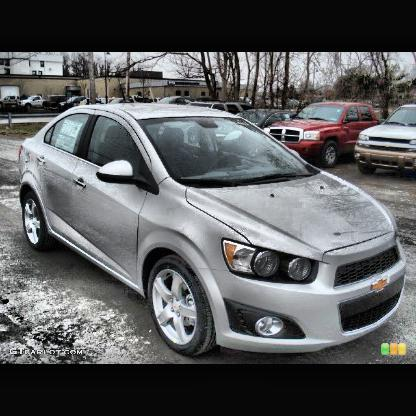Chevrolet Sonic Sedan 2012: (20, 54, 409, 363)
